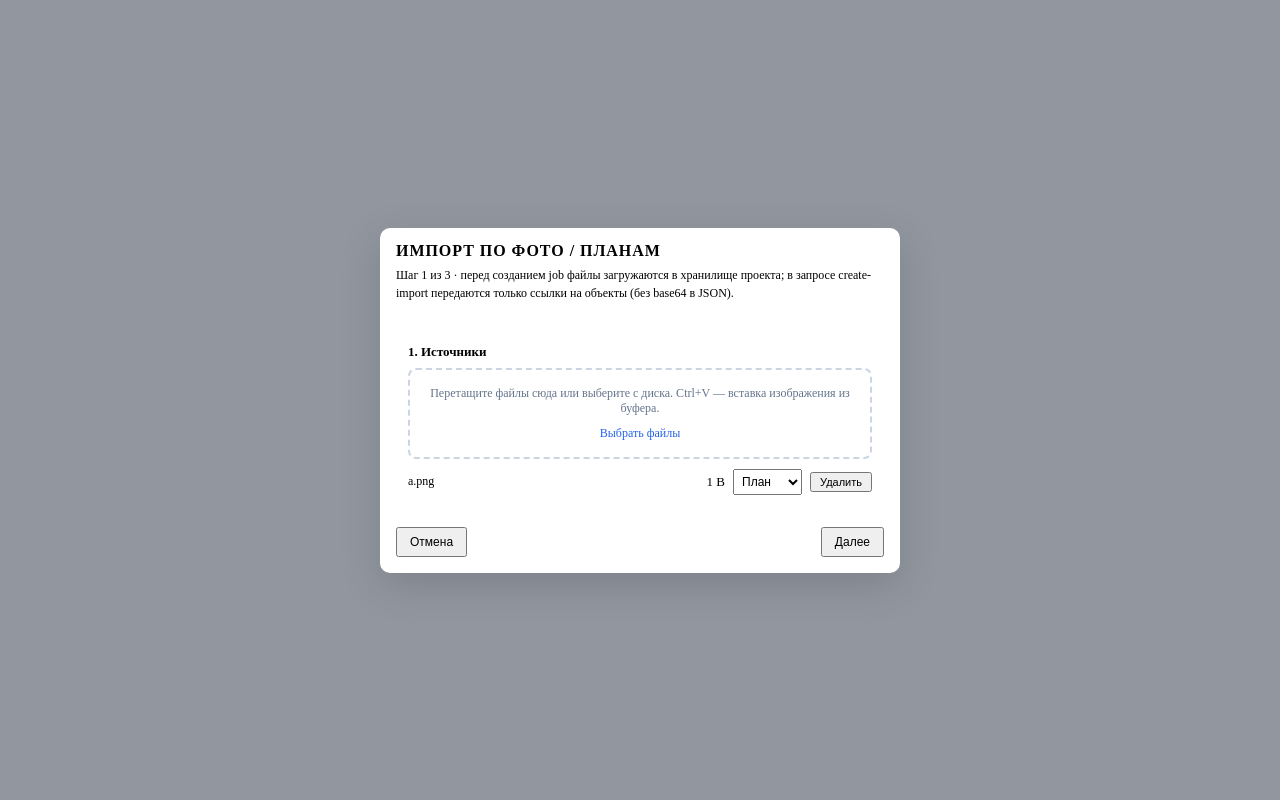
Scenario: AiImportWizardModal › disables submit when validation fails on step 3
The image size is (1280, 800).
Earlier steps of the test are not shown.
Click the button with test id "ai-import-wizard-next": point(852, 542) [821,526,884,556]
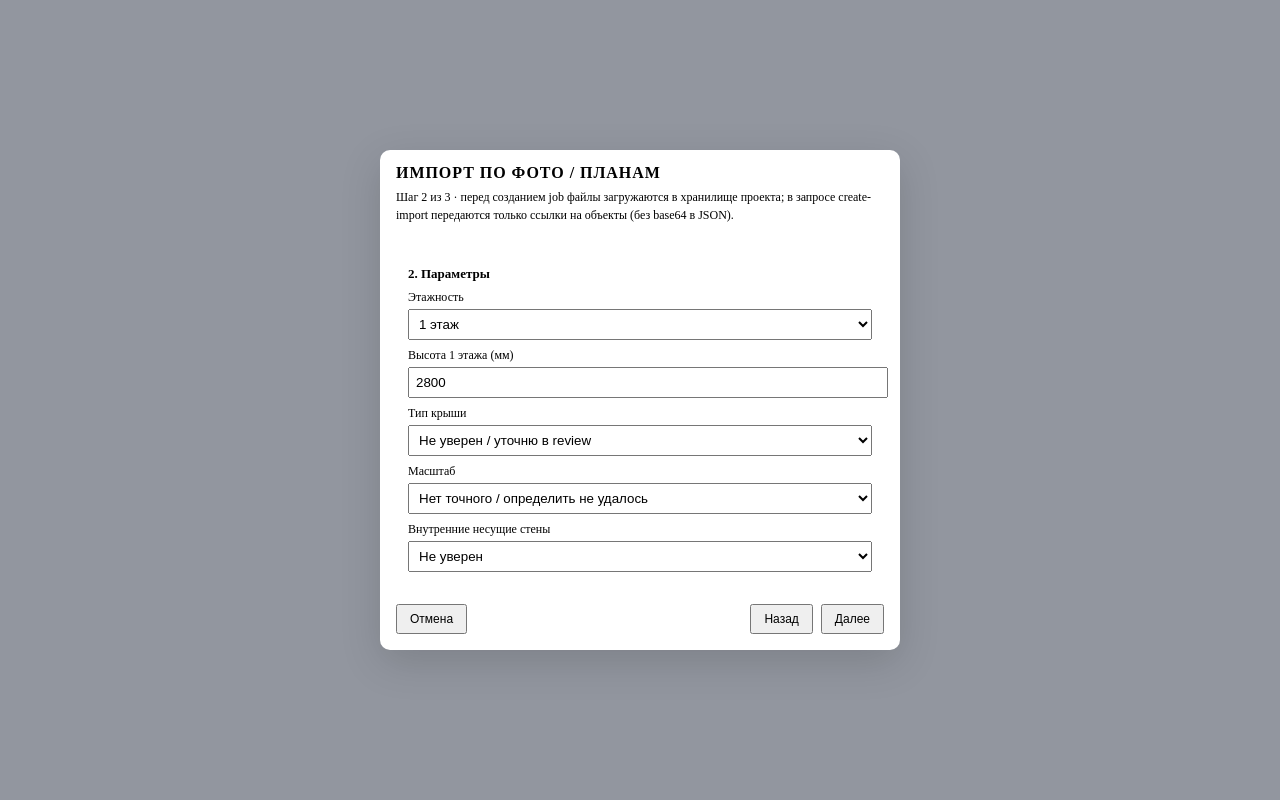
Replace the text in the number field showing "2800" with "0": point(648, 382) [408,367,888,398]
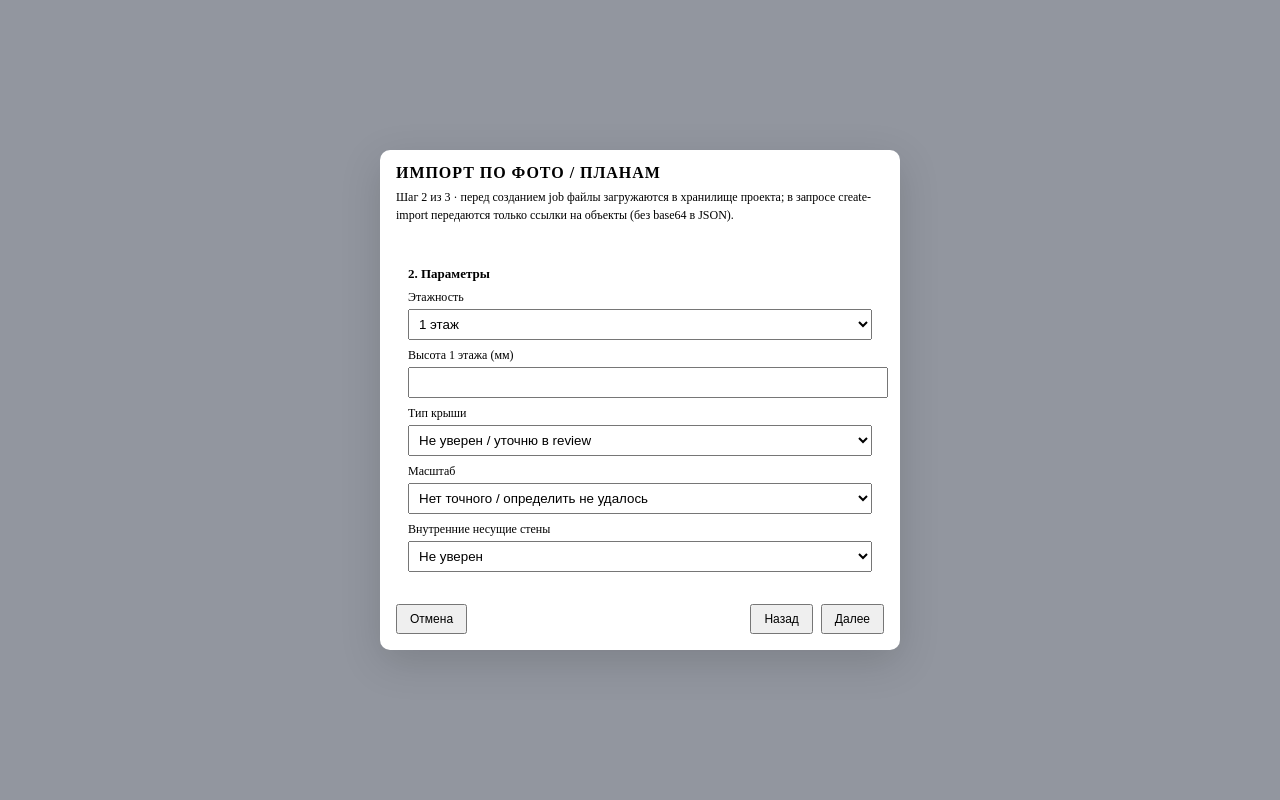
Click the button with test id "ai-import-wizard-next": point(852, 619) [821,604,884,634]
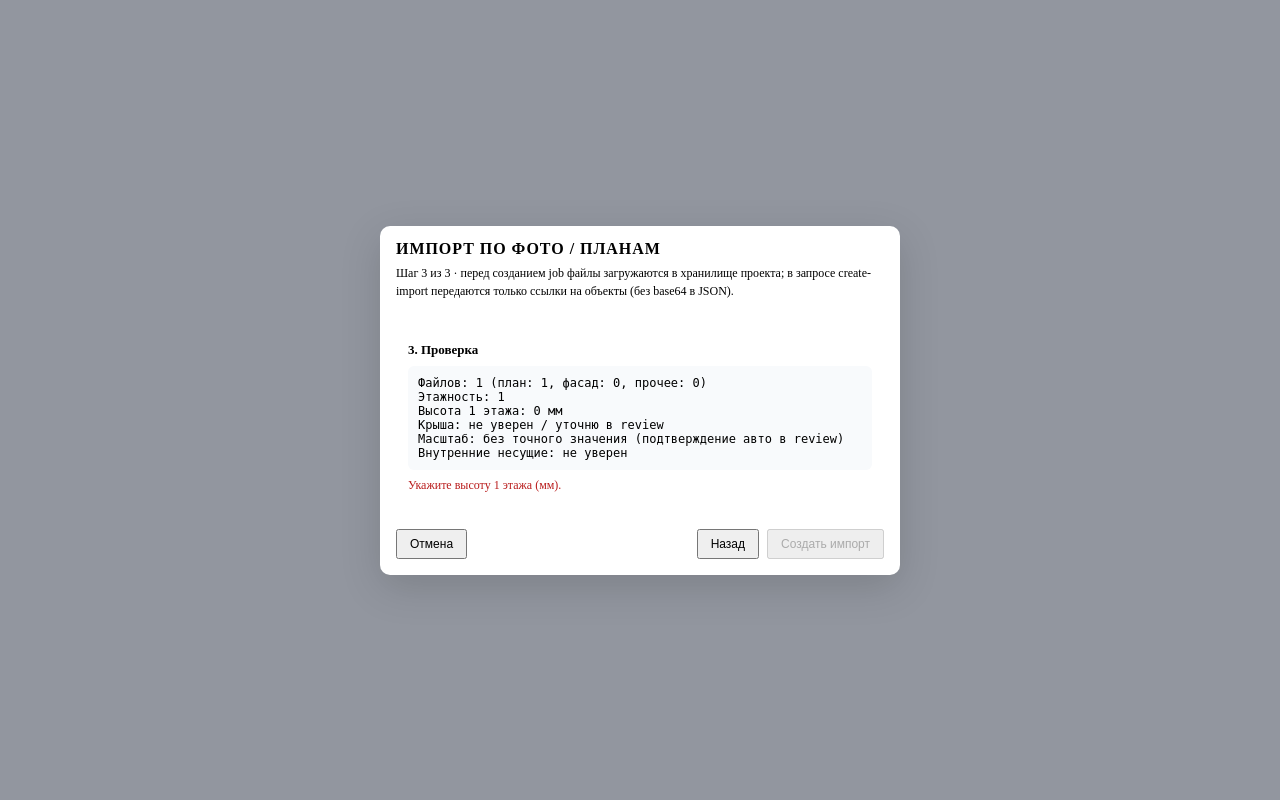
Result: the button with test id "ai-import-wizard-submit" is disabled at [767,528,884,558]
